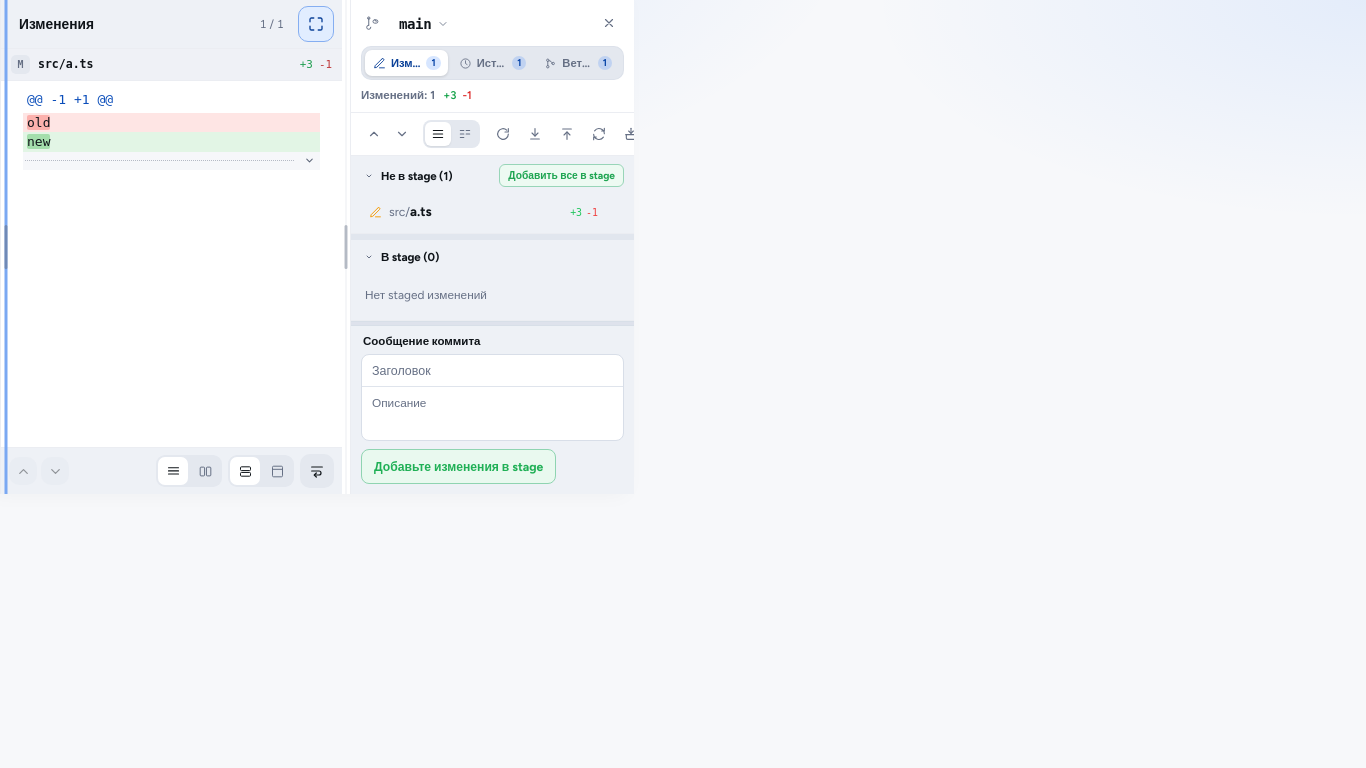
Scenario: GitChangesSidePanel › searches the branch list instead of scrolling it
Click the tab "История 1".
click(493, 63)  # box [451, 50, 534, 76]
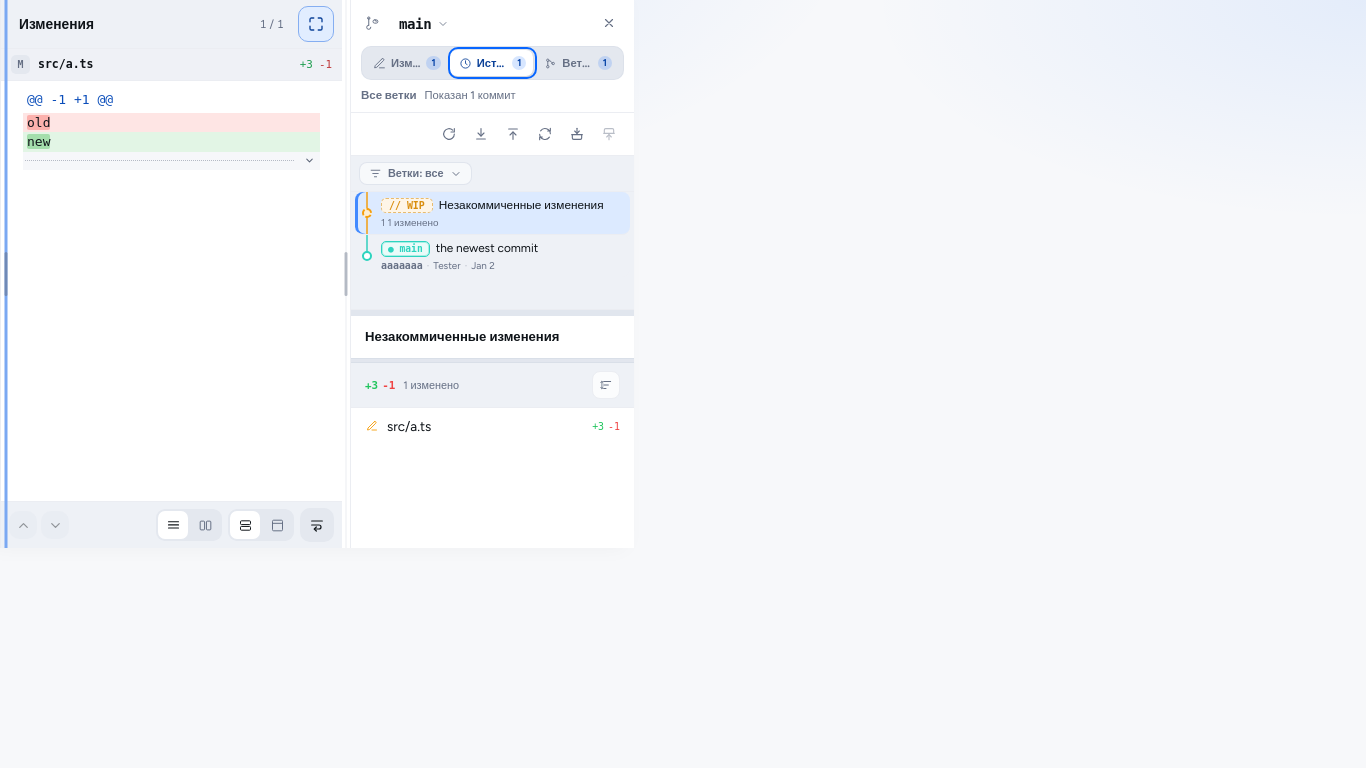
Click the button with aria-label "Фильтр истории по веткам".
click(415, 174)  # box [359, 162, 472, 185]
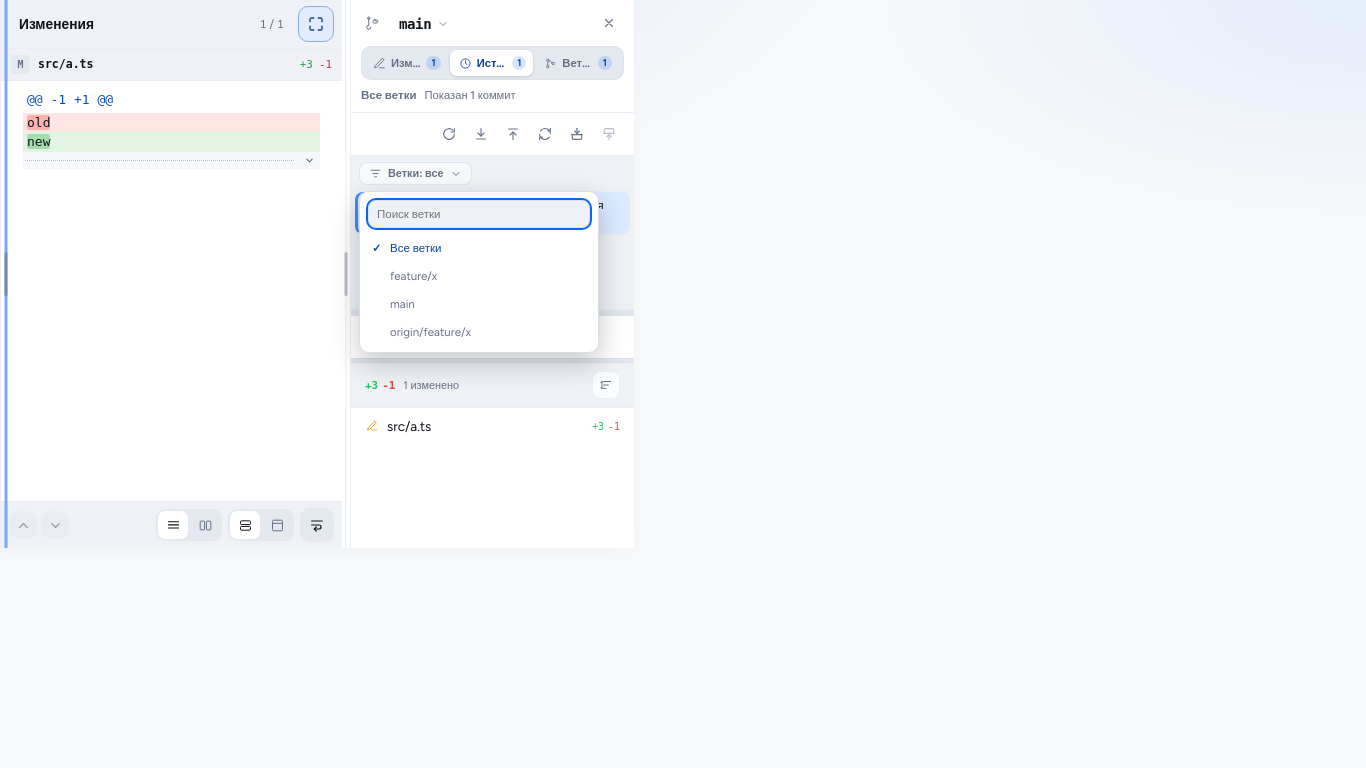
Type "feature" into the field with placeholder "Поиск ветки".
click(479, 214); type("feature")  # box [368, 200, 590, 228]
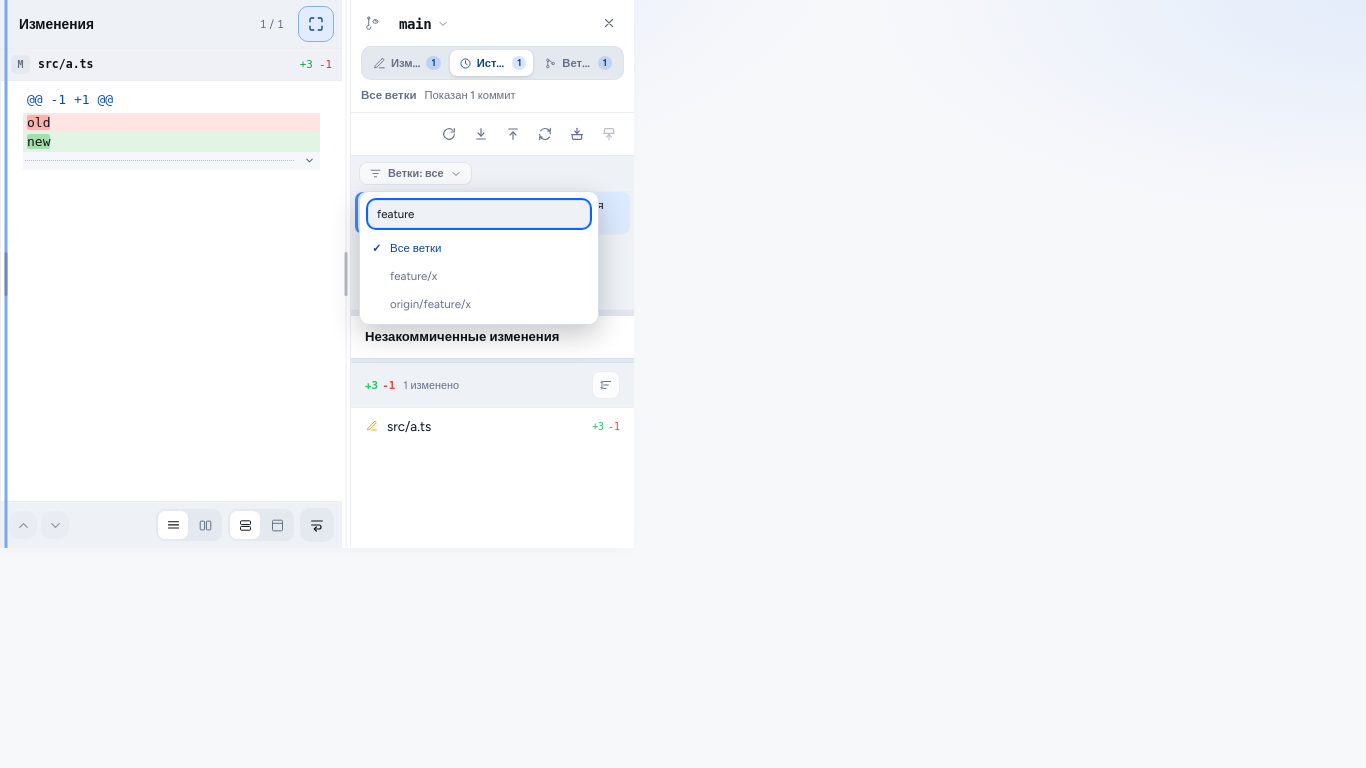
Check: the option "feature/x" is shown, box [366, 262, 592, 290]
Replace the text in the field with placeholder "Поиск ветки" with "nope" at coordinates (479, 214), box [368, 200, 590, 228]
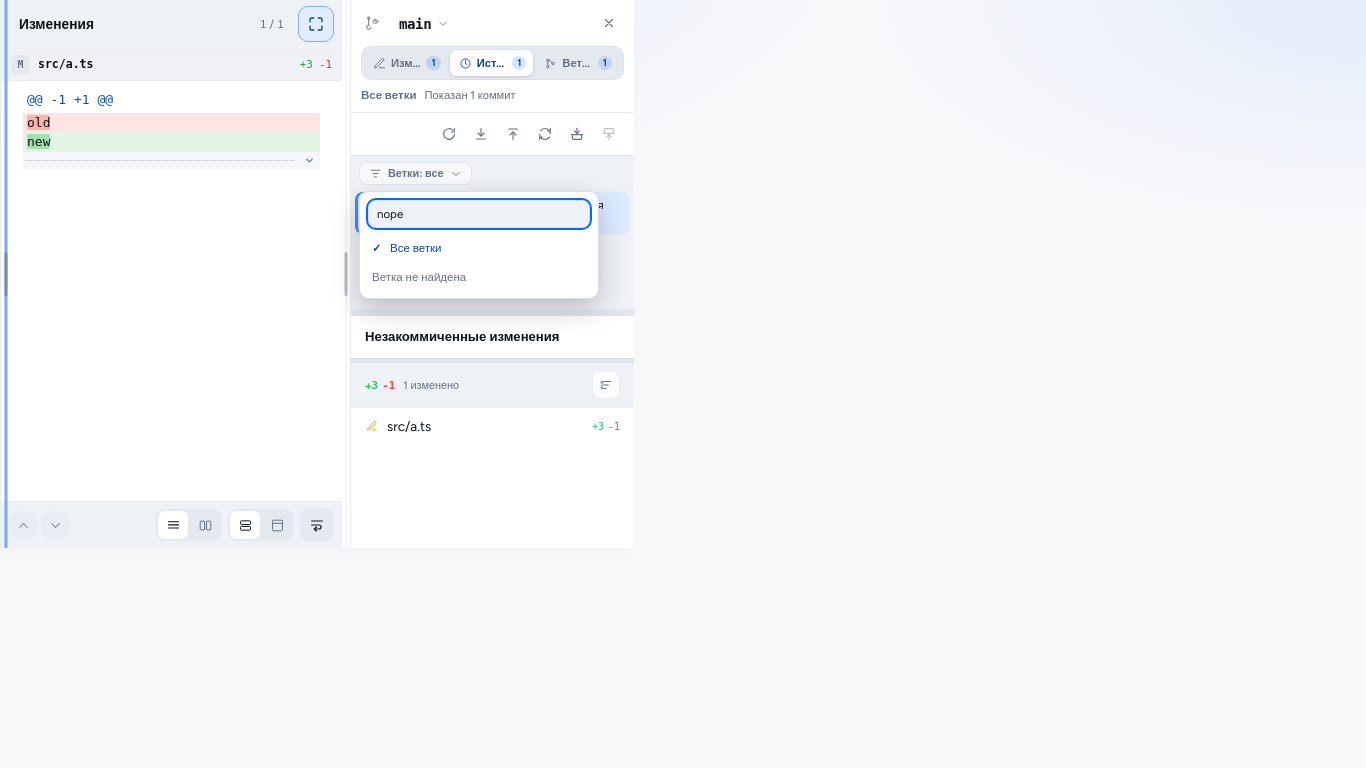
Check: the text "Ветка не найдена" is shown, box [372, 270, 466, 284]
